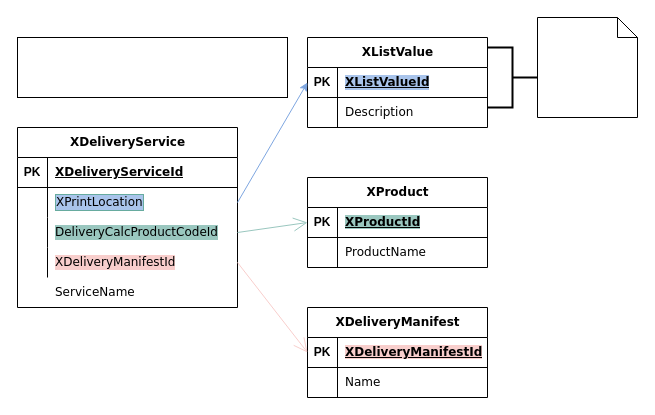
Some shapes in this 655 by 415 pixel diagram are drawn without their labels. Each missing label, with the centre of its shape:
"Delivery Locations" belongs at point (587, 67).
"Delivery Service Configuration" belongs at point (152, 67).
